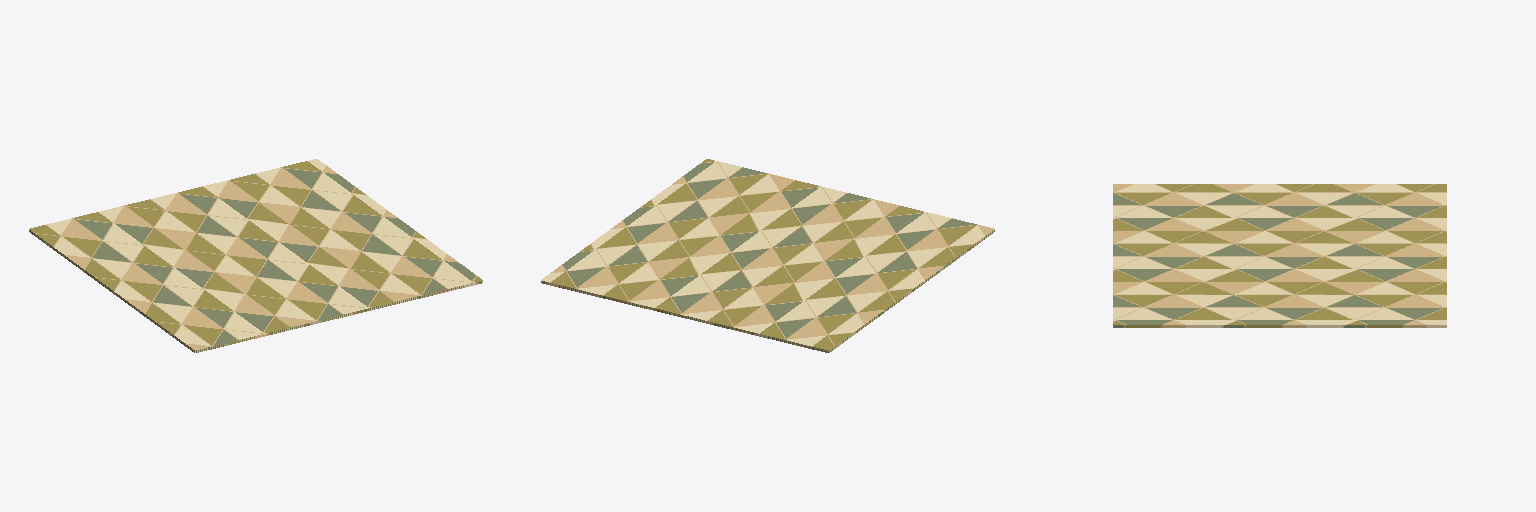
The picture shows the model from 3 angles: view 1: azimuth 30°, elevation 25°; view 2: azimuth 150°, elevation 25°; view 3: azimuth 270°, elevation 25°; orthographic projection.
Parts seen in each view (by area): view 1: ground; view 2: ground; view 3: ground.
Part boxes in pixels (left/top/right/bottom): ground: left=29, top=159, right=482, bottom=352; ground: left=541, top=159, right=994, bottom=352; ground: left=1113, top=184, right=1446, bottom=327.
Bounding box in the file's own units: 5.62 × 0.0512 × 5.62.
Materials: 1 (1 with a texture image).